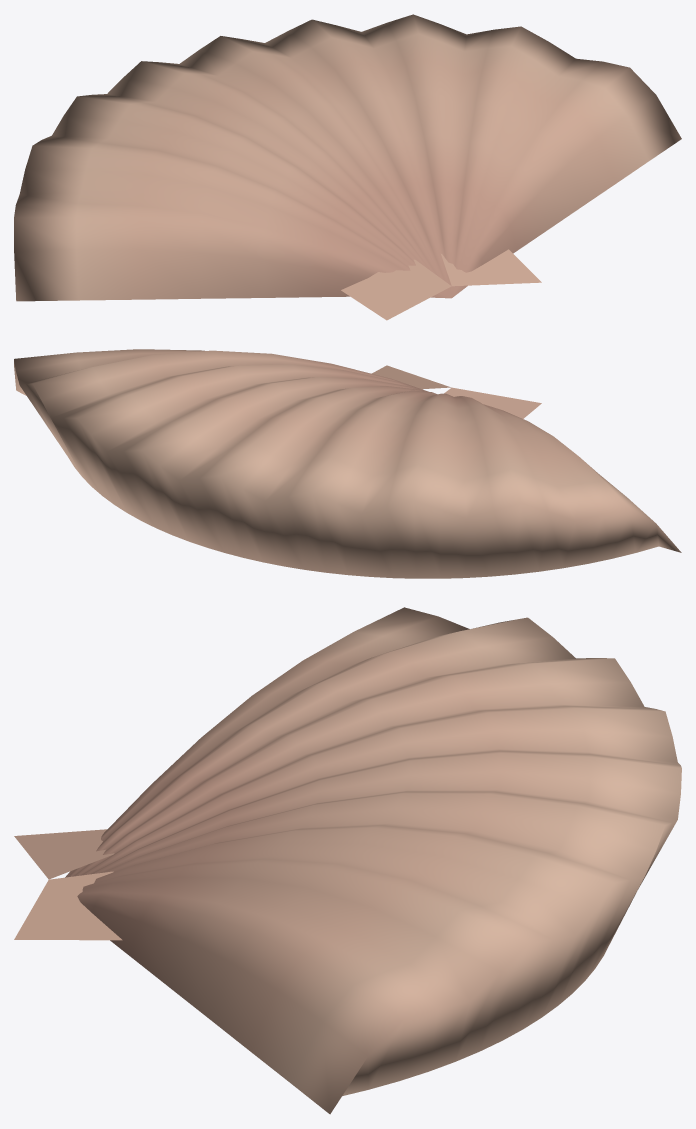
Rendered from node-shell-v1.glb.
3 views of the same model, one above another, from view 1: azimuth 30°, elevation 25°; view 2: azimuth 150°, elevation 25°; view 3: azimuth 270°, elevation 25° (orthographic). The views are drawn at different scales.
Visible parts, largest first — view 1: 0_shell; view 2: 0_shell; view 3: 0_shell.
Boxes of the visible parts, x1=… form: 0_shell: x1=14, y1=14, x2=681, y2=320; 0_shell: x1=14, y1=349, x2=681, y2=578; 0_shell: x1=14, y1=607, x2=681, y2=1114.
Bounding box in the file's own units: 0.4716 × 0.0748 × 0.2992.
